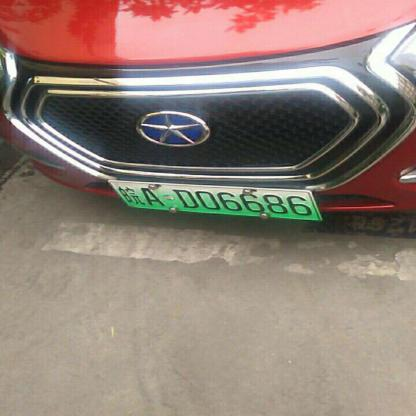lp: (108, 181, 322, 221)
